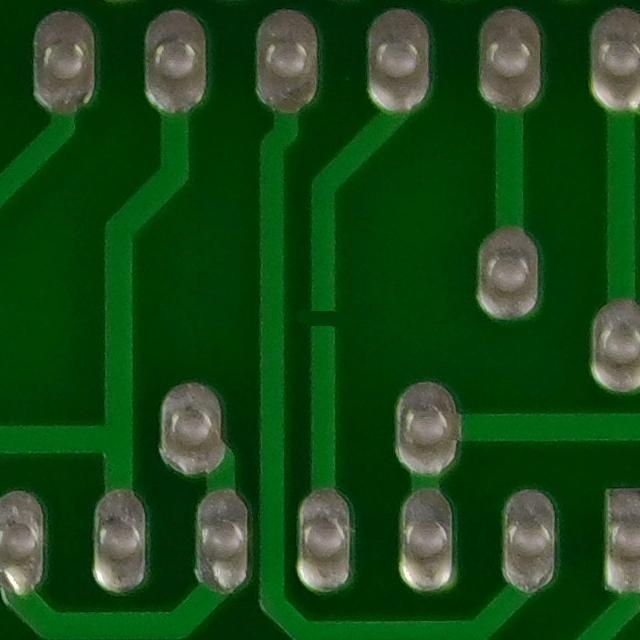open_circuit: (300, 294, 341, 345)
